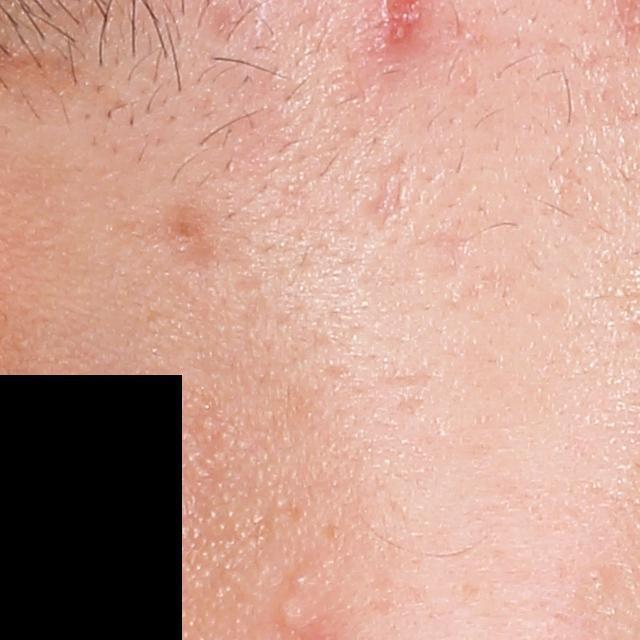atrophic_scar: (363, 152, 411, 229), (429, 227, 471, 289)
comedo: (275, 598, 312, 632), (287, 568, 317, 596)
